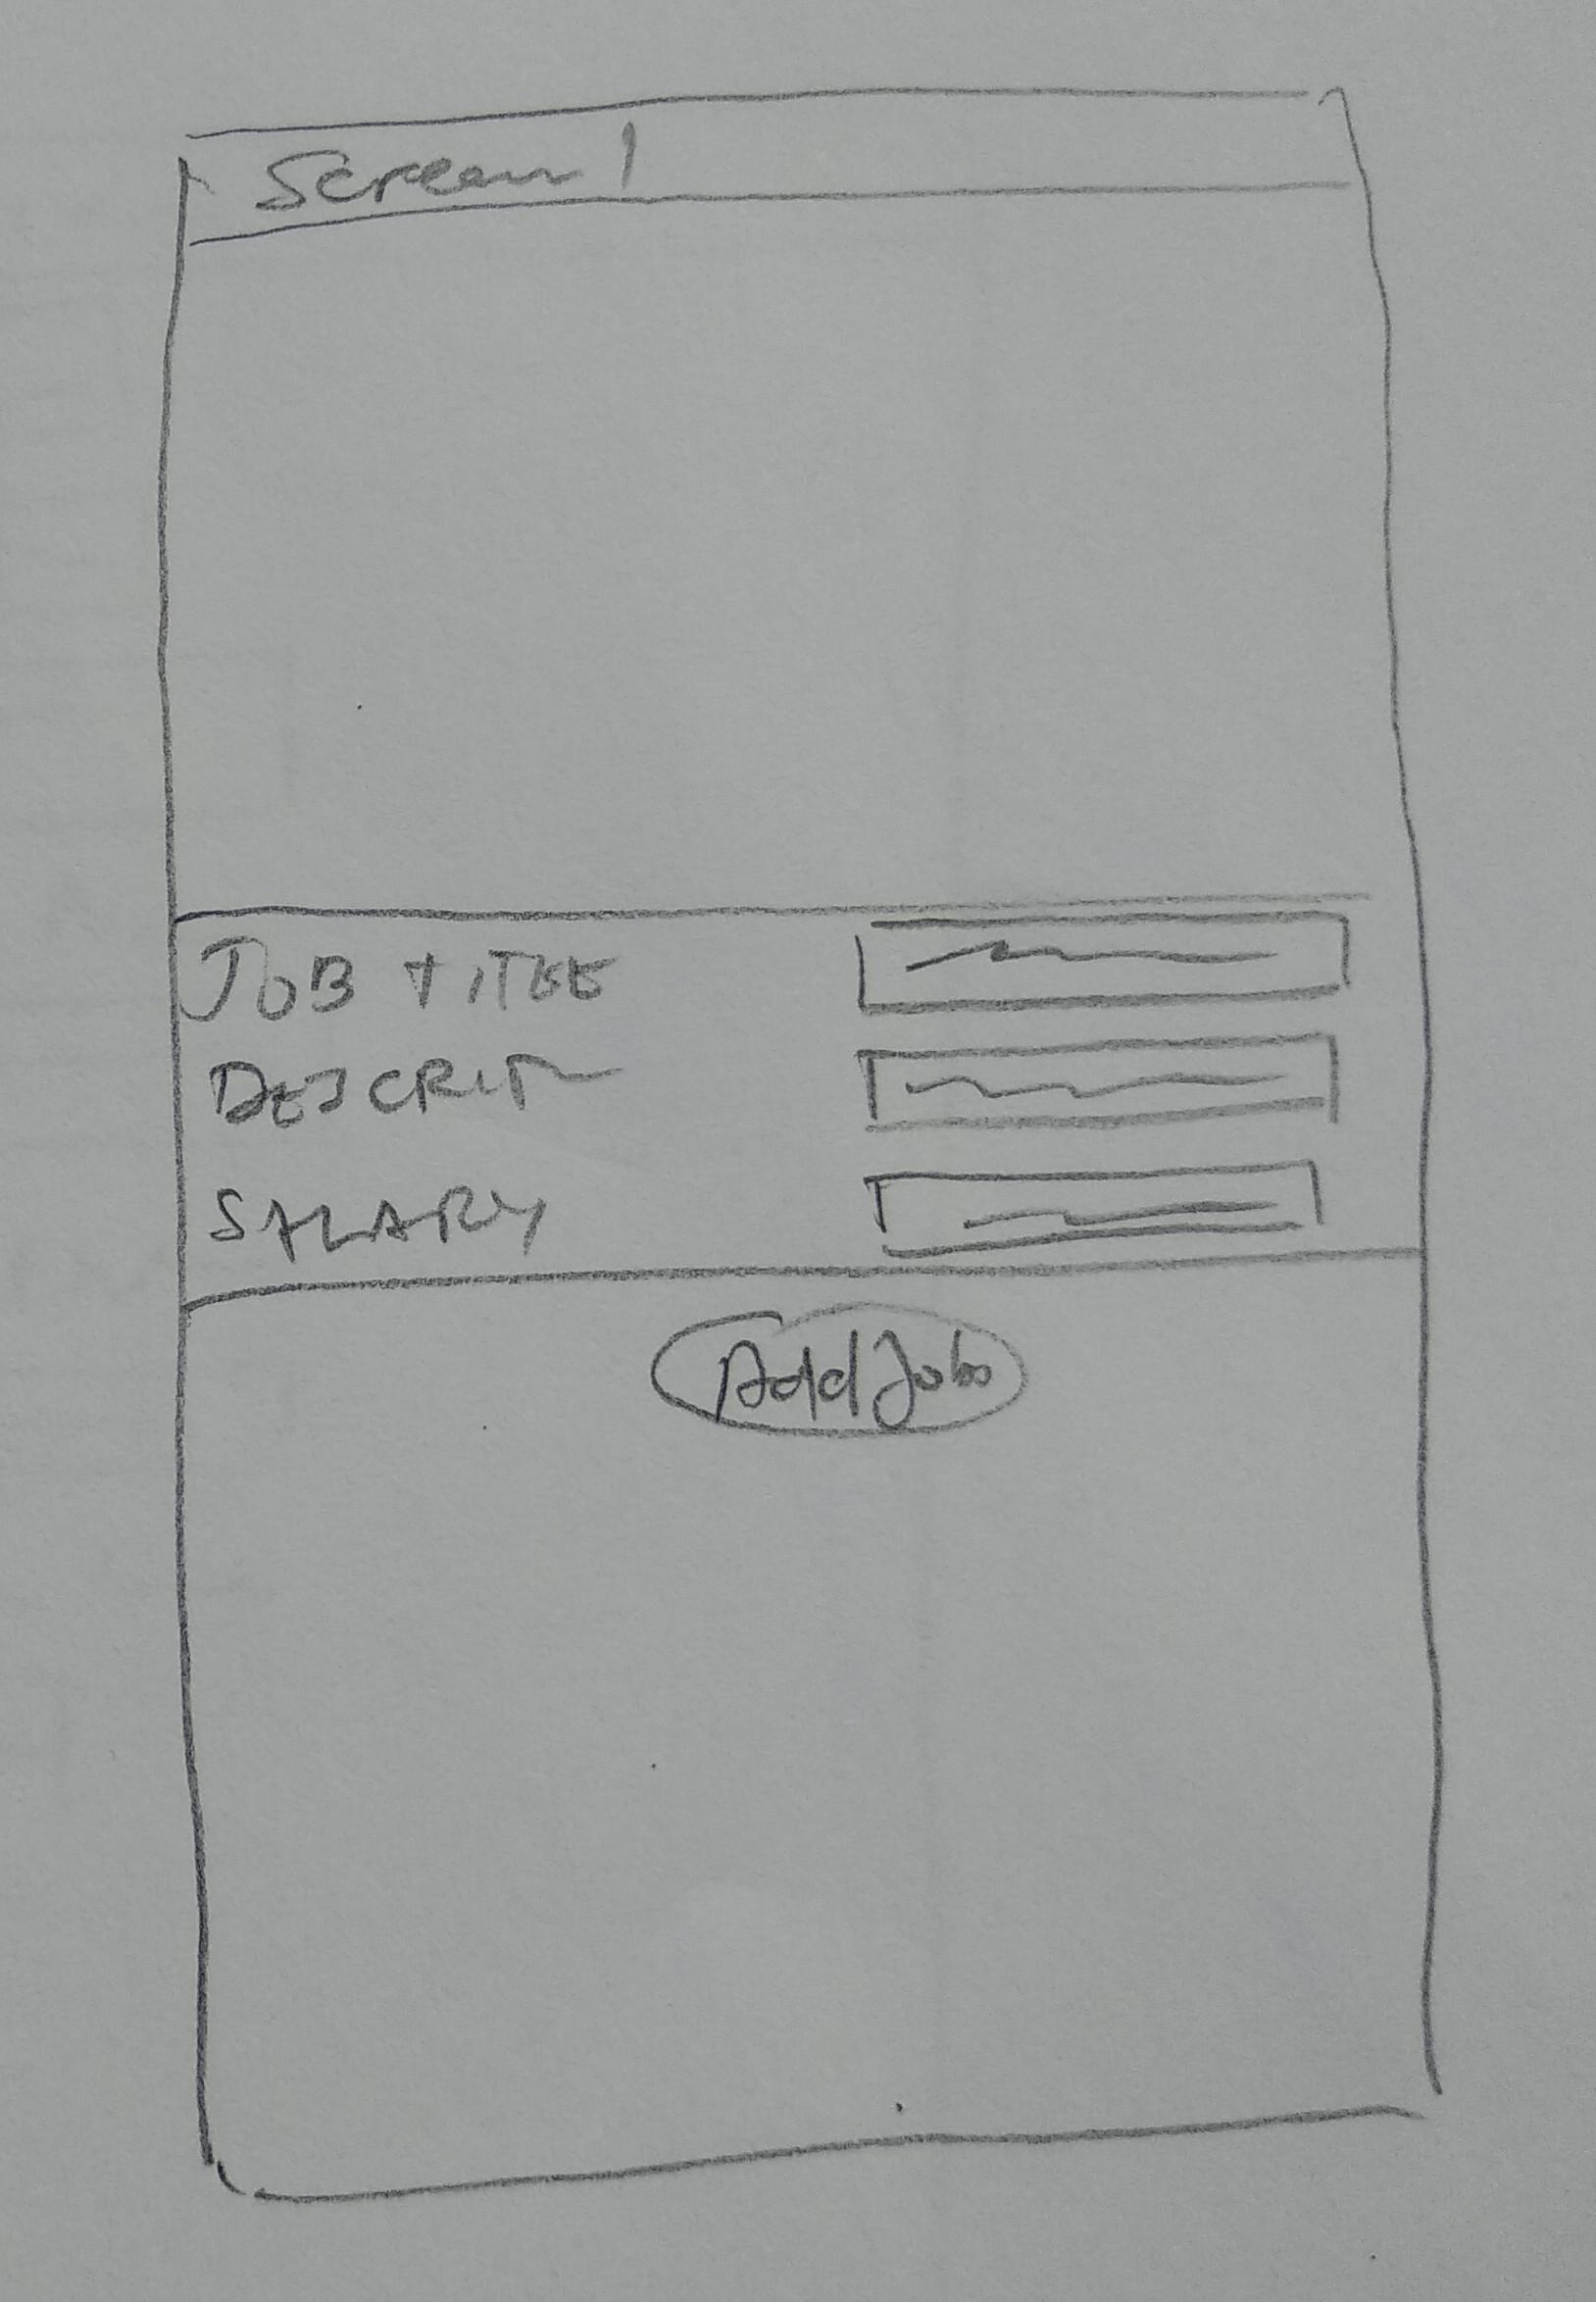Button: (863, 1020, 1347, 1135), (852, 908, 1358, 1016), (647, 1305, 1022, 1438), (871, 1158, 1323, 1261)
Label: (250, 110, 651, 224), (205, 1039, 628, 1137), (184, 932, 626, 1025), (203, 1179, 555, 1270)
Screen: (161, 84, 1440, 2206)
